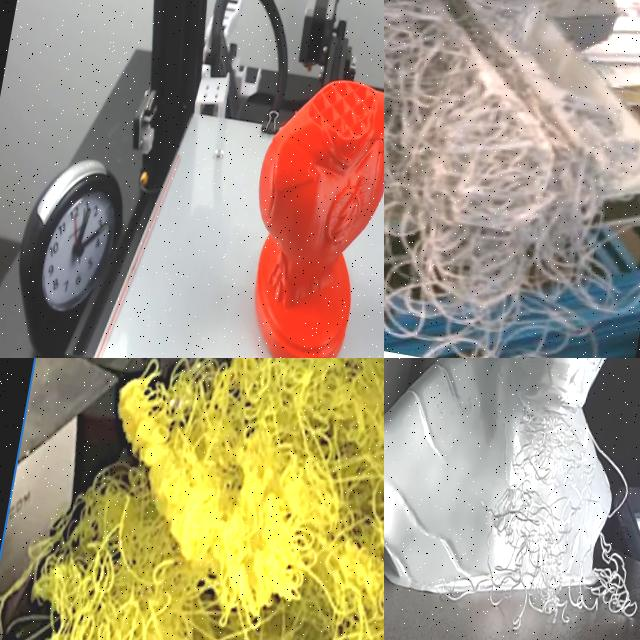spaghetti: (0, 358, 384, 640), (384, 0, 640, 358), (435, 385, 640, 640)
